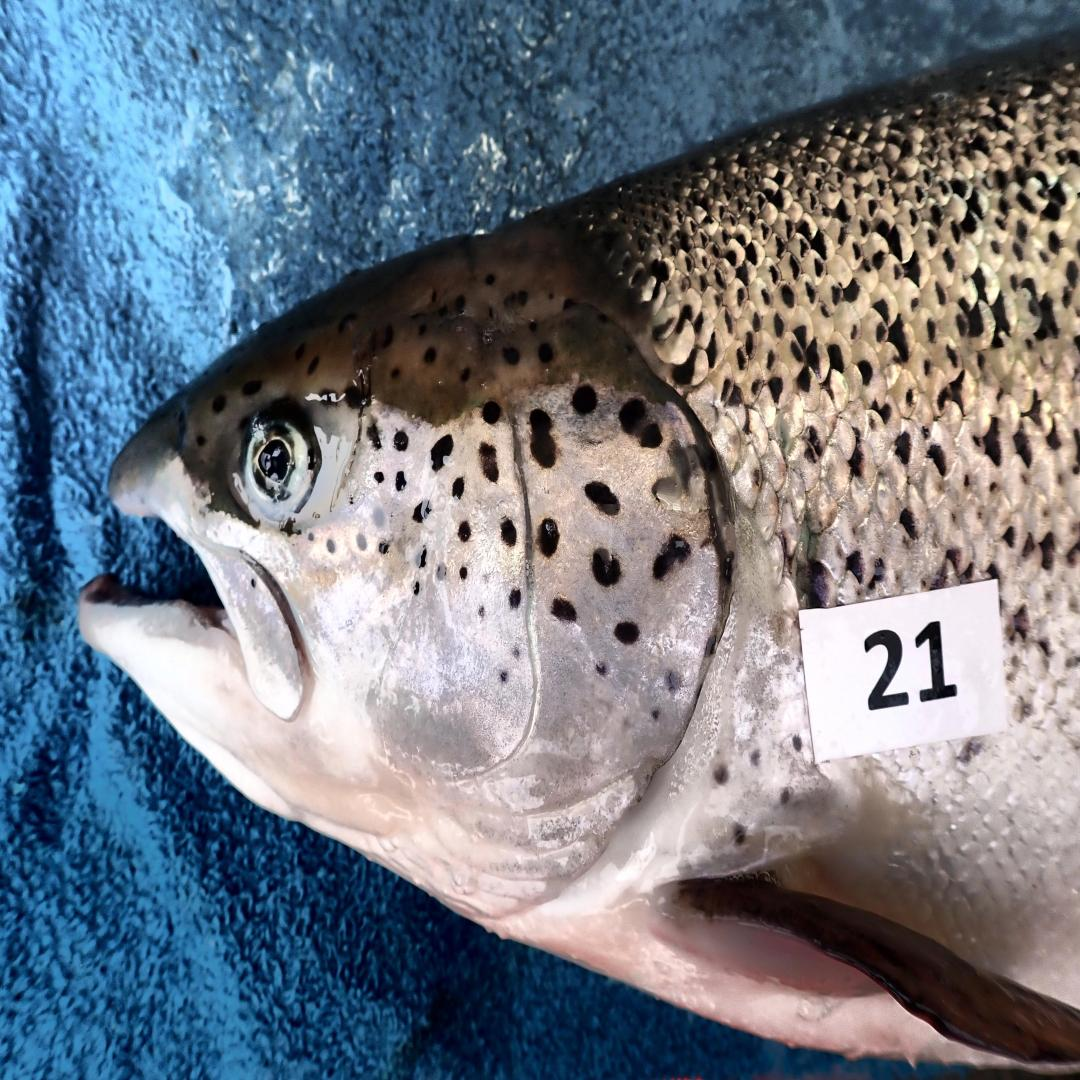spot: (653, 439, 692, 503), (618, 399, 662, 447), (529, 408, 557, 467), (654, 534, 690, 579), (584, 481, 620, 515), (593, 548, 620, 588), (479, 442, 500, 484), (538, 518, 559, 557), (430, 436, 454, 470), (572, 385, 597, 413), (551, 596, 576, 622), (367, 413, 382, 450), (614, 622, 639, 644), (500, 518, 517, 546), (483, 402, 502, 425), (413, 501, 430, 523), (394, 430, 409, 453), (371, 506, 386, 528), (667, 669, 681, 692), (458, 520, 470, 543), (451, 478, 464, 498), (508, 588, 521, 608), (595, 661, 608, 678), (397, 470, 407, 492), (356, 534, 367, 551), (437, 562, 447, 579), (378, 540, 390, 554), (373, 470, 384, 484), (411, 579, 420, 596), (477, 605, 487, 619), (326, 539, 335, 554), (420, 548, 426, 568), (500, 669, 508, 683), (651, 710, 659, 722), (460, 565, 466, 579), (513, 648, 519, 659), (308, 532, 314, 541)
